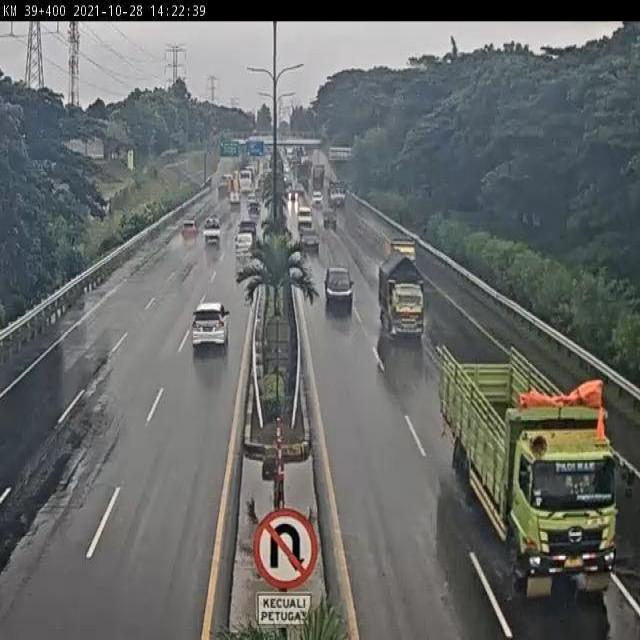truck-l-: (435, 342, 635, 606)
truck-s-: (376, 249, 428, 340)
